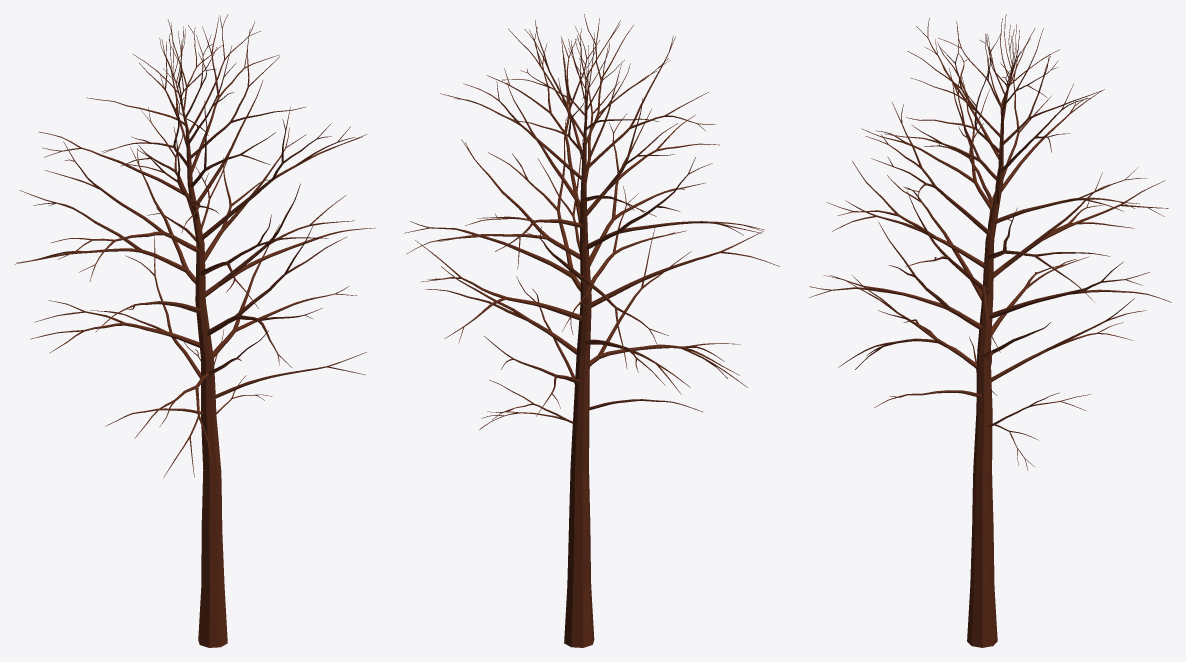
Rendered from dryBigLeavesTreeL.fbx.
The picture shows the model from 3 angles, left to right: view 1: azimuth 30°, elevation 25°; view 2: azimuth 150°, elevation 25°; view 3: azimuth 270°, elevation 25°; orthographic projection. The views are drawn at different scales.
Parts seen in each view (by area): view 1: dryBigLeavesTreeL, dryBigLeavesTreeL1, dryBigLeavesTreeL2; view 2: dryBigLeavesTreeL, dryBigLeavesTreeL2, dryBigLeavesTreeL1; view 3: dryBigLeavesTreeL, dryBigLeavesTreeL2, dryBigLeavesTreeL1.
Part boxes in pixels (x1,y1,x2,y2): dryBigLeavesTreeL: (16, 15, 375, 643); dryBigLeavesTreeL1: (17, 14, 372, 647); dryBigLeavesTreeL2: (15, 18, 367, 524); dryBigLeavesTreeL: (404, 14, 779, 647); dryBigLeavesTreeL2: (423, 14, 779, 580); dryBigLeavesTreeL1: (411, 23, 768, 647); dryBigLeavesTreeL: (809, 14, 1170, 647); dryBigLeavesTreeL2: (810, 24, 1171, 646); dryBigLeavesTreeL1: (814, 17, 1170, 647).
Size of the model in its own units: 347 by 610 by 328.
